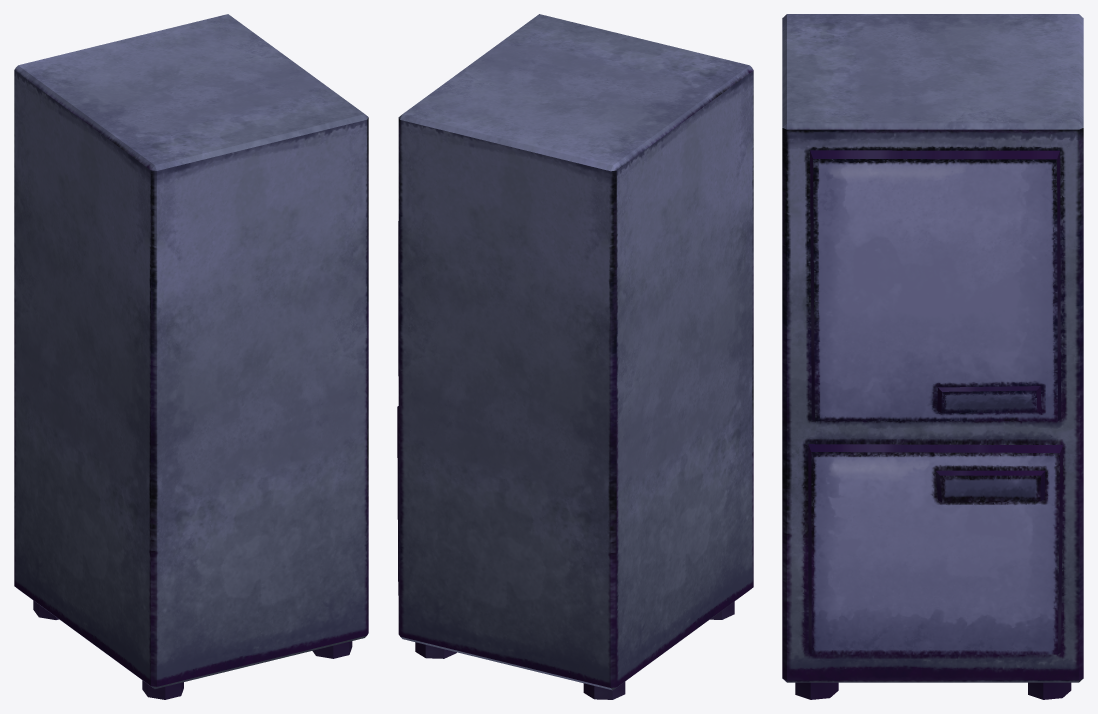
Rendered from fridge.glb.
3 renders of one model, left to right at view 1: azimuth 30°, elevation 25°; view 2: azimuth 150°, elevation 25°; view 3: azimuth 270°, elevation 25°, orthographic. The views are drawn at different scales.
Visible parts, largest first — view 1: Cube; view 2: Cube; view 3: Cube.
Boxes of the visible parts, bbox=[...] form: Cube: bbox=[14, 14, 368, 699]; Cube: bbox=[397, 14, 753, 699]; Cube: bbox=[782, 14, 1083, 699].
Size of the model in its own units: 1.92 by 4.23 by 2.
1 material, 1 textured.
